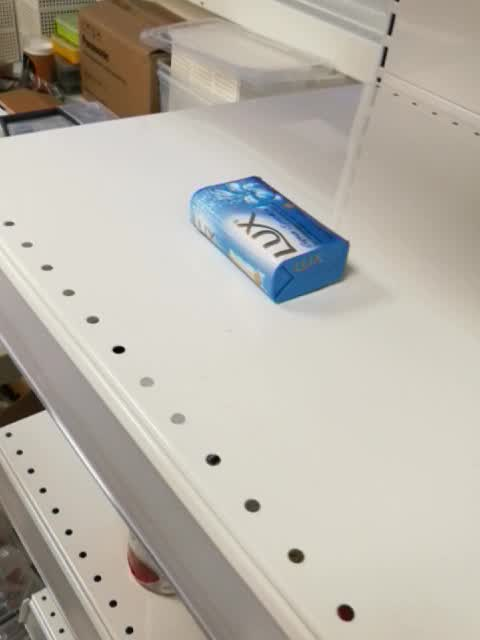soap: (187, 175, 351, 306)
